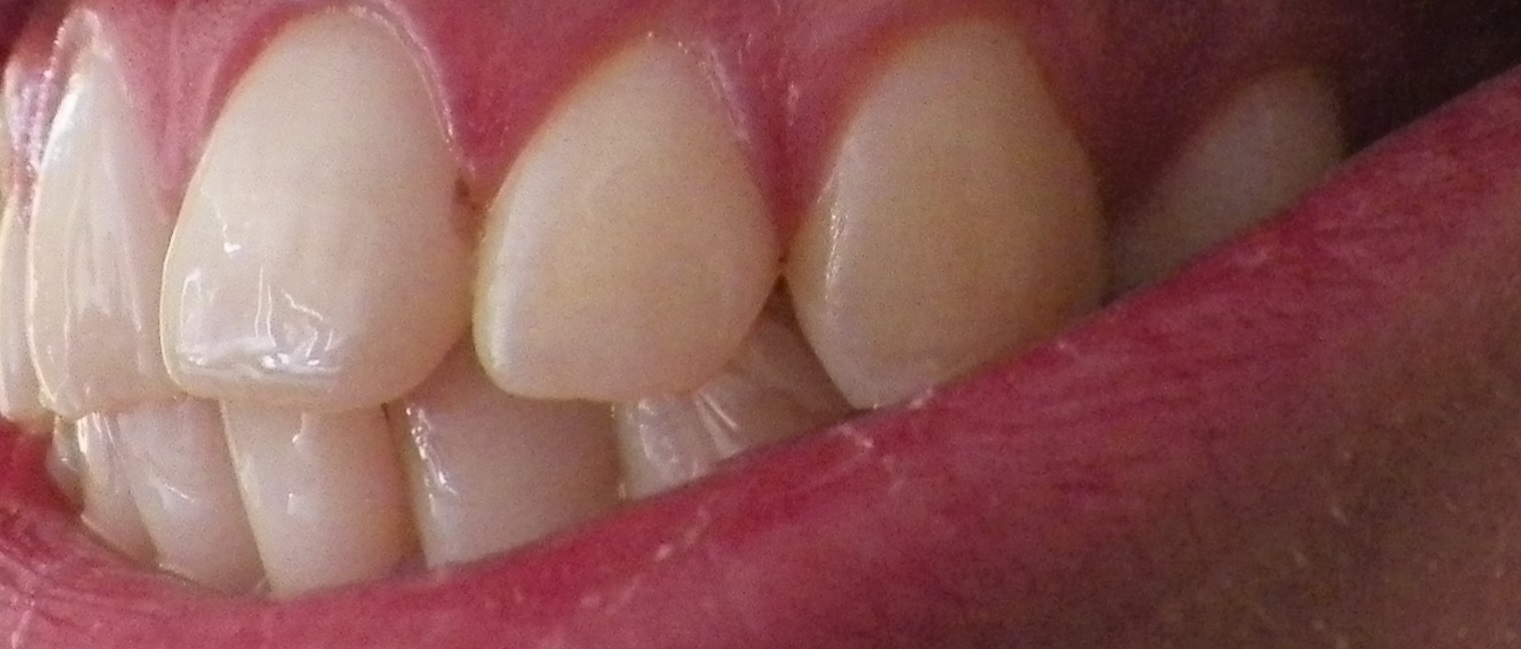boca: (26, 10, 1375, 602)
